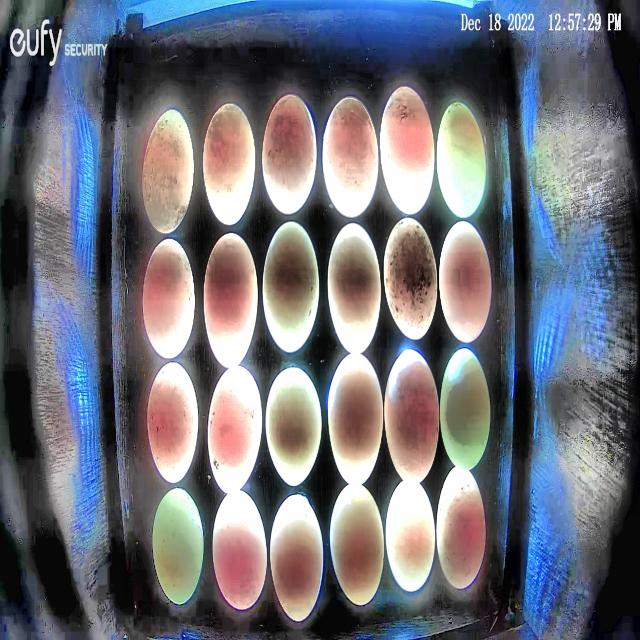UF: (261, 220, 320, 355), (327, 352, 384, 486), (379, 84, 436, 216), (326, 221, 382, 355), (204, 231, 258, 368), (384, 350, 440, 482), (321, 94, 380, 219), (207, 363, 263, 494), (265, 366, 323, 488), (262, 93, 318, 217), (141, 107, 195, 235), (382, 217, 438, 340), (270, 493, 323, 622), (212, 488, 267, 610), (330, 482, 384, 606), (147, 360, 200, 486), (142, 238, 196, 360), (202, 103, 255, 226), (439, 220, 492, 343), (439, 348, 492, 470), (436, 466, 487, 589), (151, 486, 204, 604), (435, 101, 487, 220), (385, 478, 436, 593)
